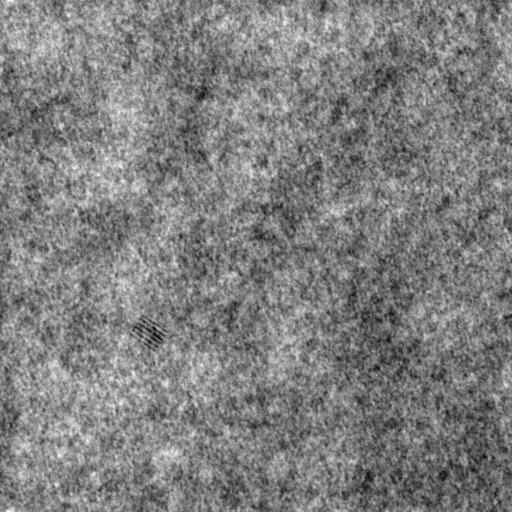impact: (127, 314, 170, 354)
